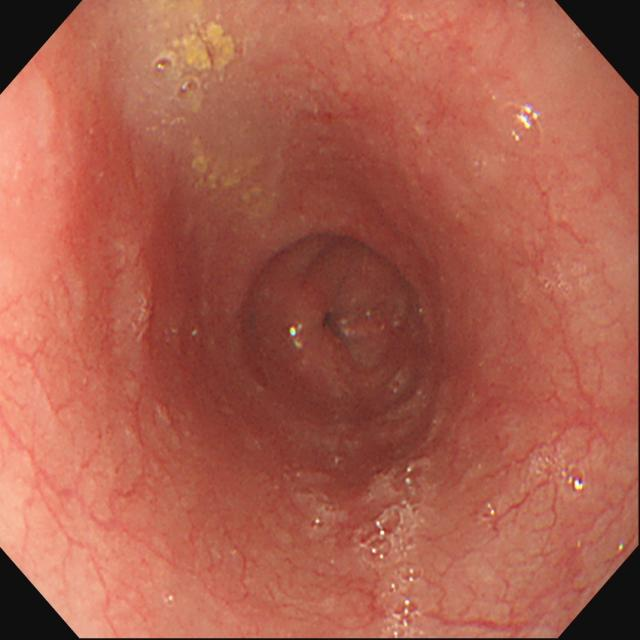I: (235, 232, 434, 433)
J: (193, 140, 272, 207), (175, 20, 240, 78)
T: (358, 457, 433, 640), (497, 98, 551, 162), (528, 446, 590, 495), (296, 484, 345, 540), (153, 59, 201, 105)
